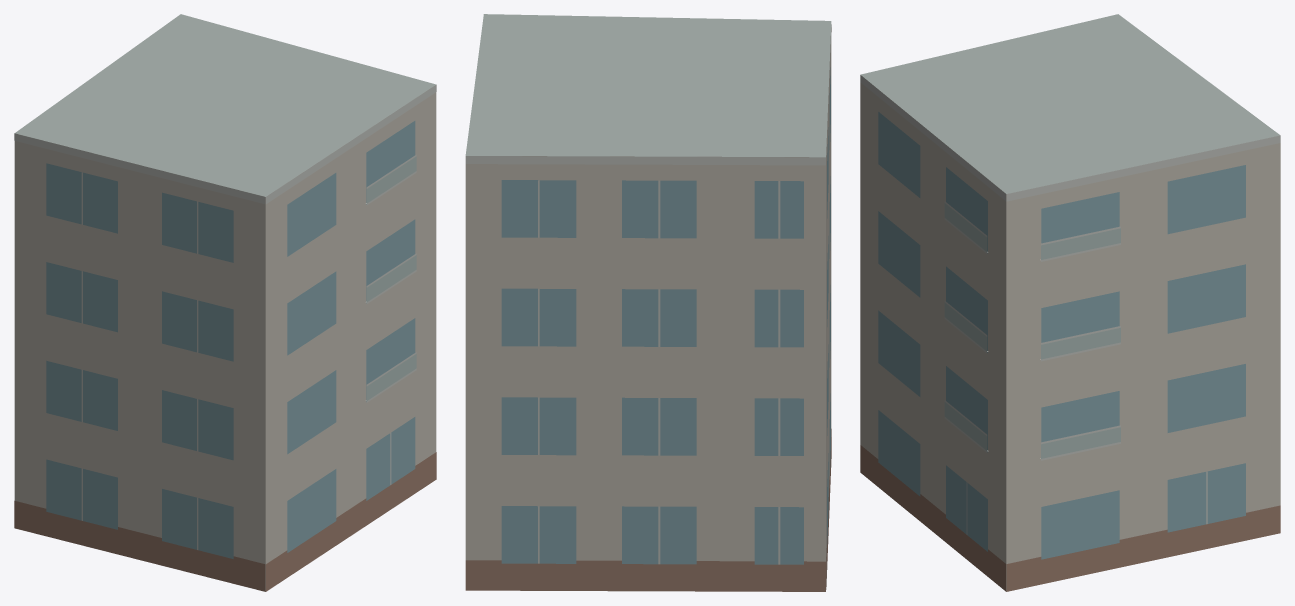
File: survey-upis-32829080.glb
The picture shows the model from 3 angles, left to right: view 1: azimuth 30°, elevation 25°; view 2: azimuth 150°, elevation 25°; view 3: azimuth 270°, elevation 25°; orthographic projection. The views are drawn at different scales.
Parts seen in each view (by area): view 1: survey-upis-32829080.tmp; view 2: survey-upis-32829080.tmp; view 3: survey-upis-32829080.tmp.
Boxes of the visible parts, left/top/right/bottom form: survey-upis-32829080.tmp: left=14, top=14, right=436, bottom=591; survey-upis-32829080.tmp: left=465, top=14, right=831, bottom=591; survey-upis-32829080.tmp: left=860, top=14, right=1280, bottom=591.
Size of the model in its own units: 12.53 by 12.89 by 12.36.
